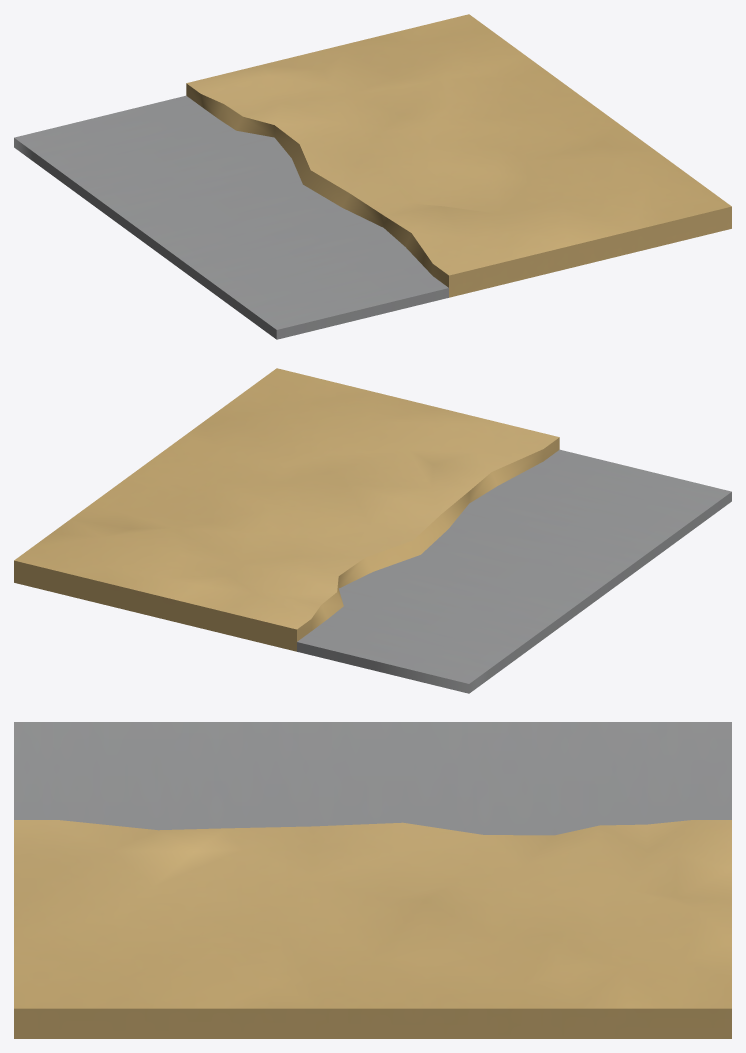
Rendered from ground_road_1_R.dae.
3 renders of one model, top to bottom at view 1: azimuth 30°, elevation 25°; view 2: azimuth 150°, elevation 25°; view 3: azimuth 270°, elevation 25°, orthographic. The views are drawn at different scales.
Parts seen in each view (by area): view 1: ground_road_1_R; view 2: ground_road_1_R; view 3: ground_road_1_R.
Part boxes in pixels (bbox=[...]): ground_road_1_R: bbox=[14, 14, 731, 339]; ground_road_1_R: bbox=[14, 368, 731, 693]; ground_road_1_R: bbox=[14, 722, 731, 1038].
Bounding box in the file's own units: 2 × 2 × 0.1193.
